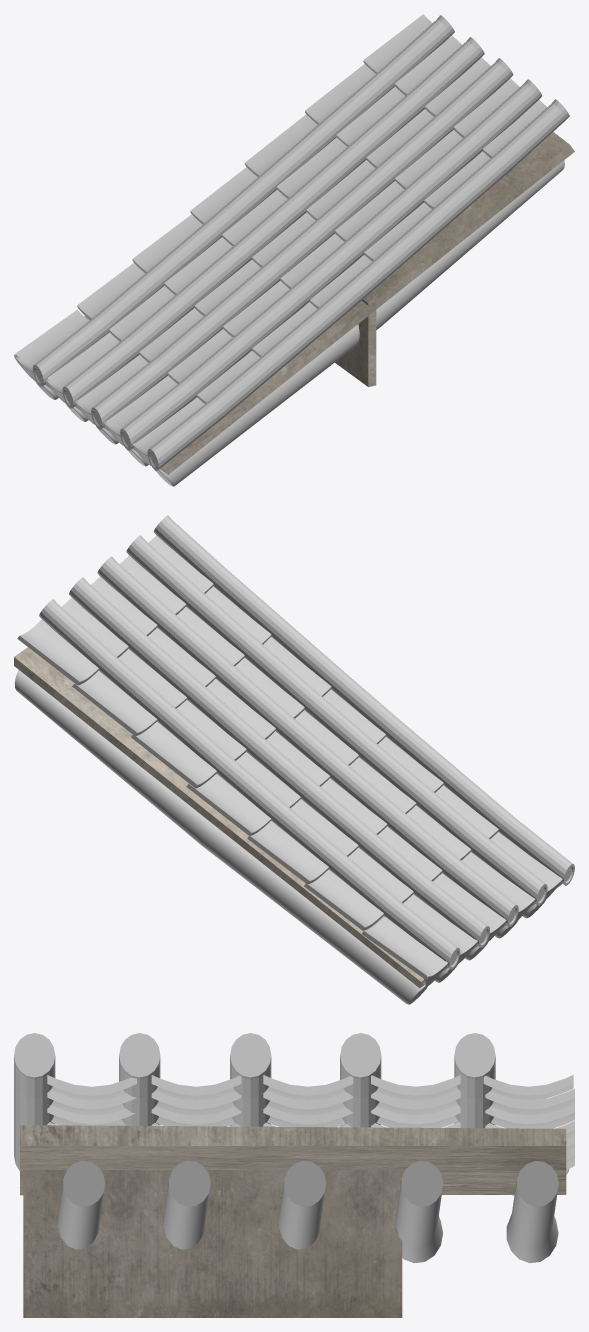
Rendered from SM_Roof_60.fbx.
3 renders of one model, top to bottom at view 1: azimuth 30°, elevation 25°; view 2: azimuth 150°, elevation 25°; view 3: azimuth 270°, elevation 25°, orthographic. The views are drawn at different scales.
Visible parts, largest first — view 1: SM_Roof_60; view 2: SM_Roof_60; view 3: SM_Roof_60.
Boxes of the visible parts, <box> form: SM_Roof_60: <box>14,14,574,486</box>; SM_Roof_60: <box>14,515,574,1004</box>; SM_Roof_60: <box>14,1033,574,1317</box>.
Size of the model in its own units: 418 by 251 by 286.
